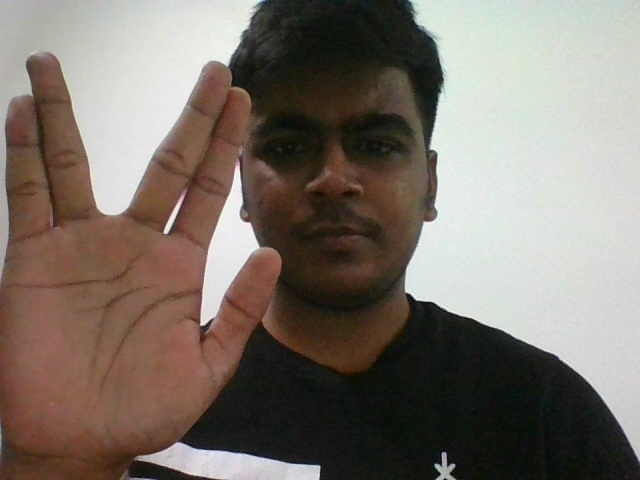livelong: (5, 50, 267, 434)
